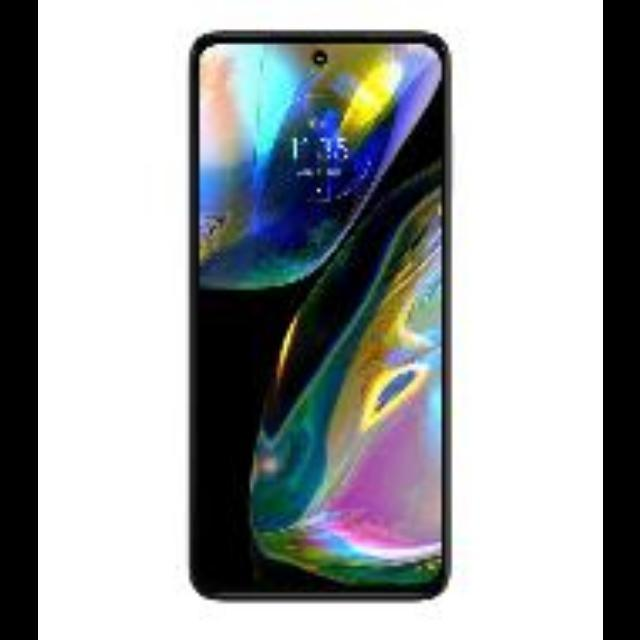phone: (186, 26, 458, 607)
